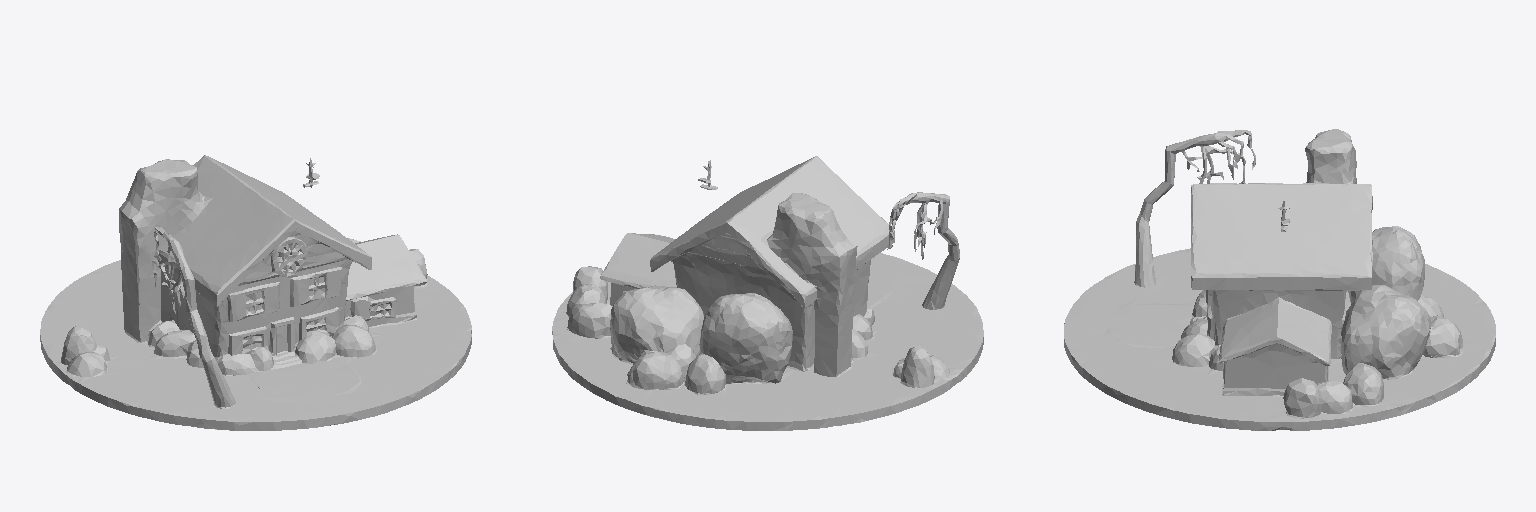
Rendered from Haunted_House_Mansion_1122090151_texture.obj.
3 views of the same model, side by side, from view 1: azimuth 30°, elevation 25°; view 2: azimuth 150°, elevation 25°; view 3: azimuth 270°, elevation 25° (orthographic).
Visible parts, largest first — view 1: Haunted_House_Mansion_[number redacted]_texture; view 2: Haunted_House_Mansion_[number redacted]_texture; view 3: Haunted_House_Mansion_[number redacted]_texture.
Boxes of the visible parts, <box> form: Haunted_House_Mansion_[number redacted]_texture: <box>40,155,471,430</box>; Haunted_House_Mansion_[number redacted]_texture: <box>552,156,983,430</box>; Haunted_House_Mansion_[number redacted]_texture: <box>1064,129,1495,430</box>.
Size of the model in its own units: 15.81 by 7 by 15.81.